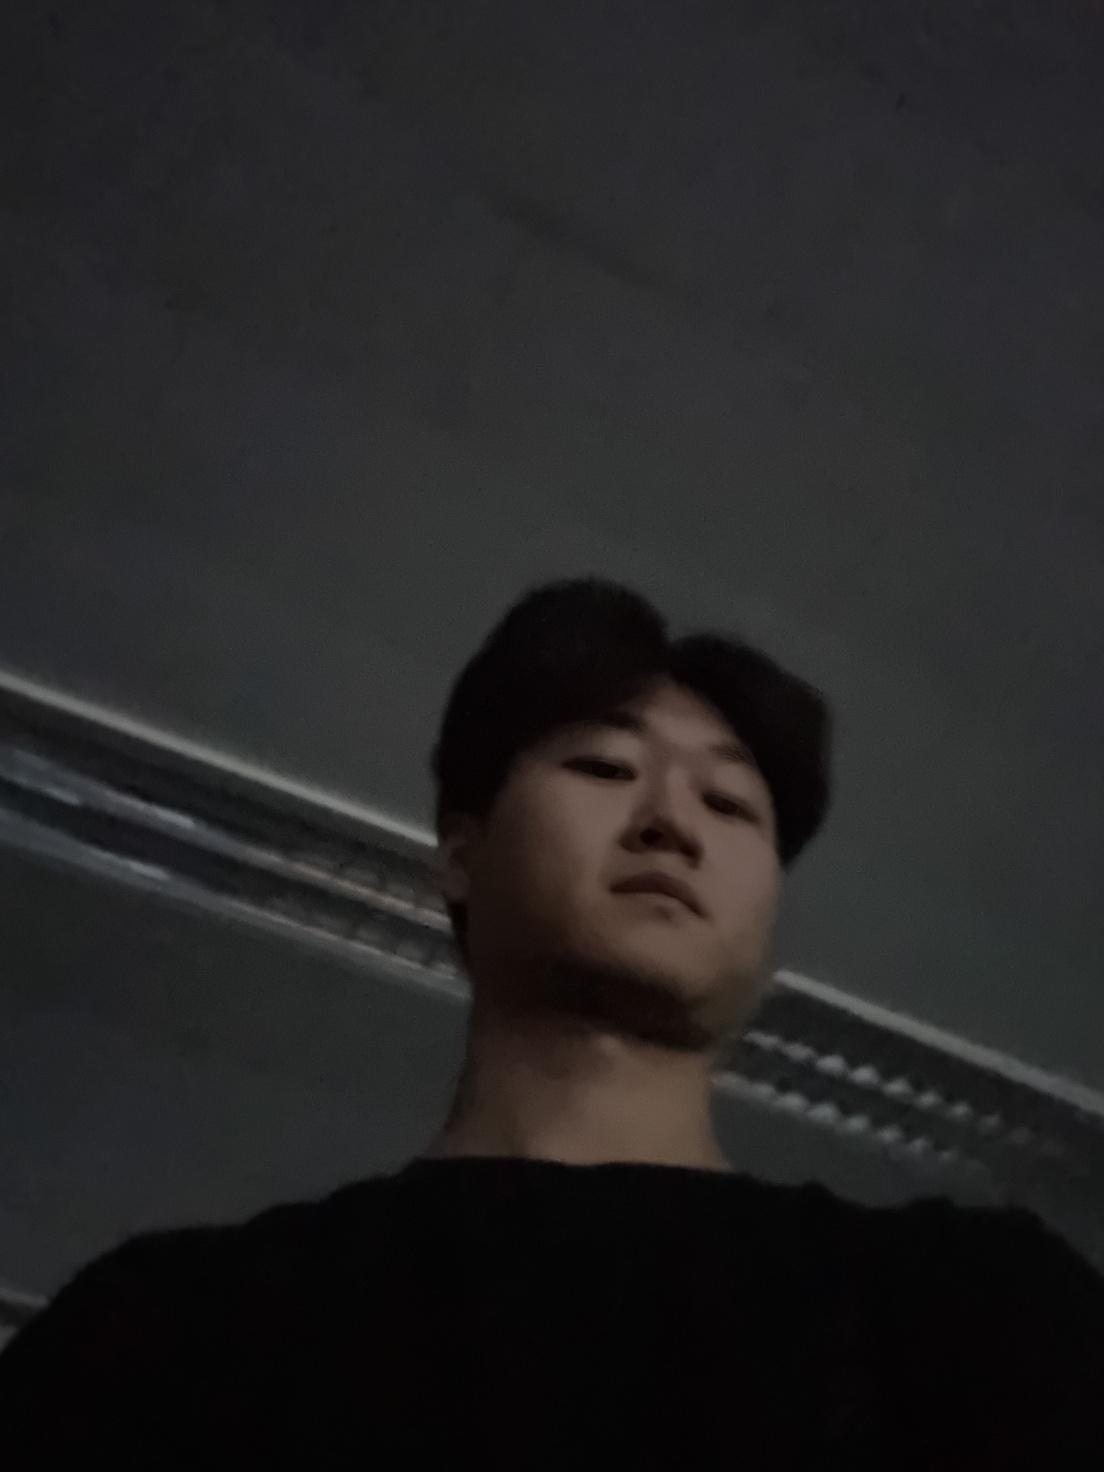Non-Helmet: (371, 524, 913, 1118)
